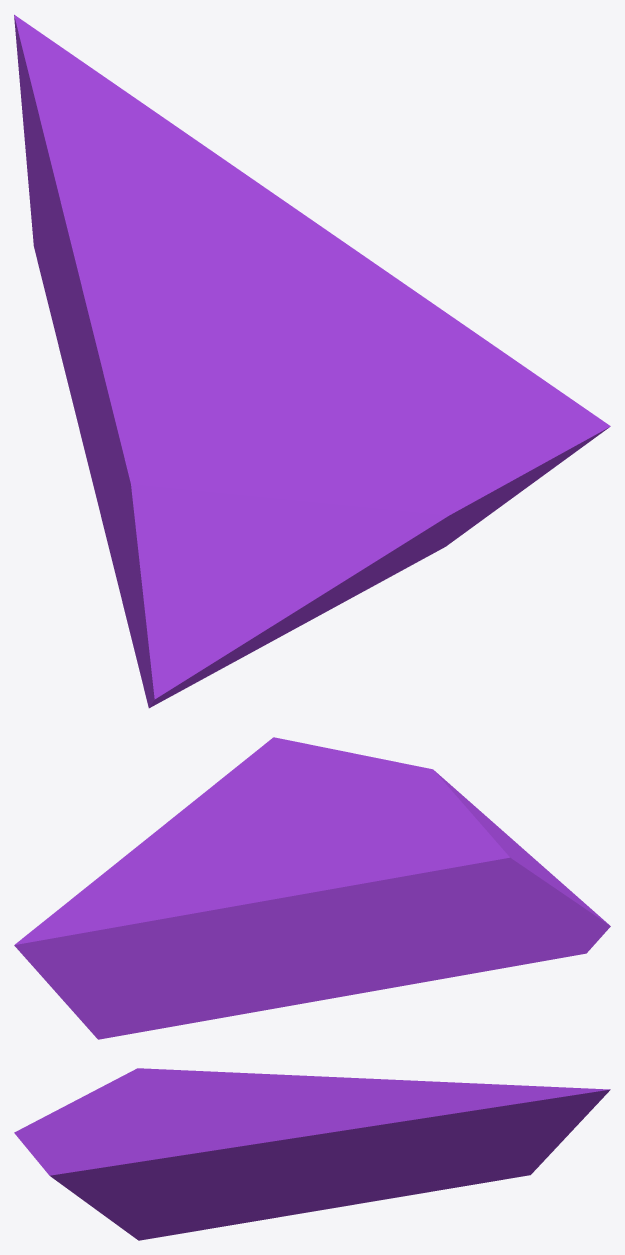
The model's file is Glass_100_2_4_chunks.fbx.
3 views of the same model, one above another, from view 1: azimuth 30°, elevation 25°; view 2: azimuth 150°, elevation 25°; view 3: azimuth 270°, elevation 25° (orthographic). The views are drawn at different scales.
Visible parts, largest first — view 1: Glass_100_2_4_0; view 2: Glass_100_2_4_0; view 3: Glass_100_2_4_0.
Boxes of the visible parts, box(x1,y1,x2,y2) form: Glass_100_2_4_0: box(14, 14, 610, 708); Glass_100_2_4_0: box(14, 737, 610, 1039); Glass_100_2_4_0: box(14, 1068, 610, 1240).
Size of the model in its own units: 132 by 74.02 by 251.
